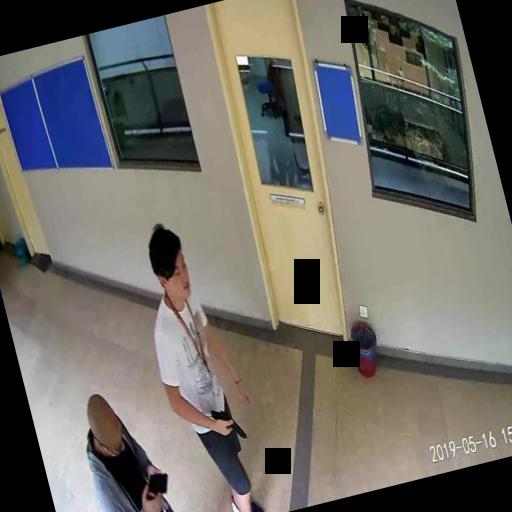Handgun: (208, 401, 246, 445)
